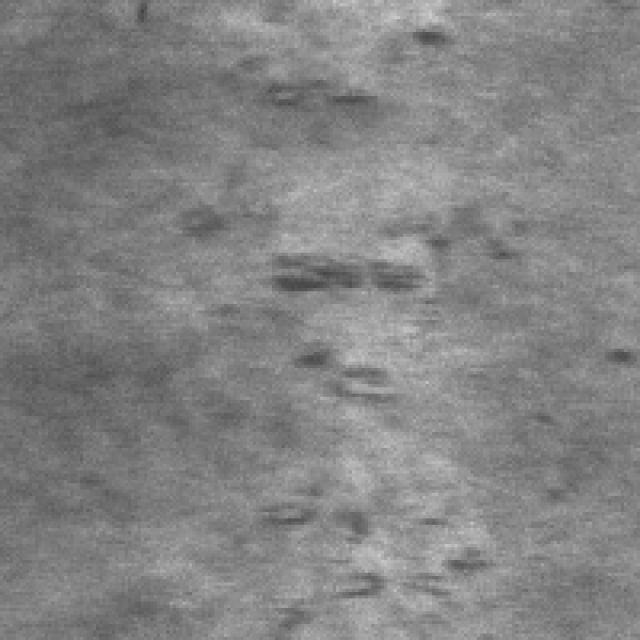rolled-in_scale: (259, 244, 493, 630), (224, 22, 438, 112)
